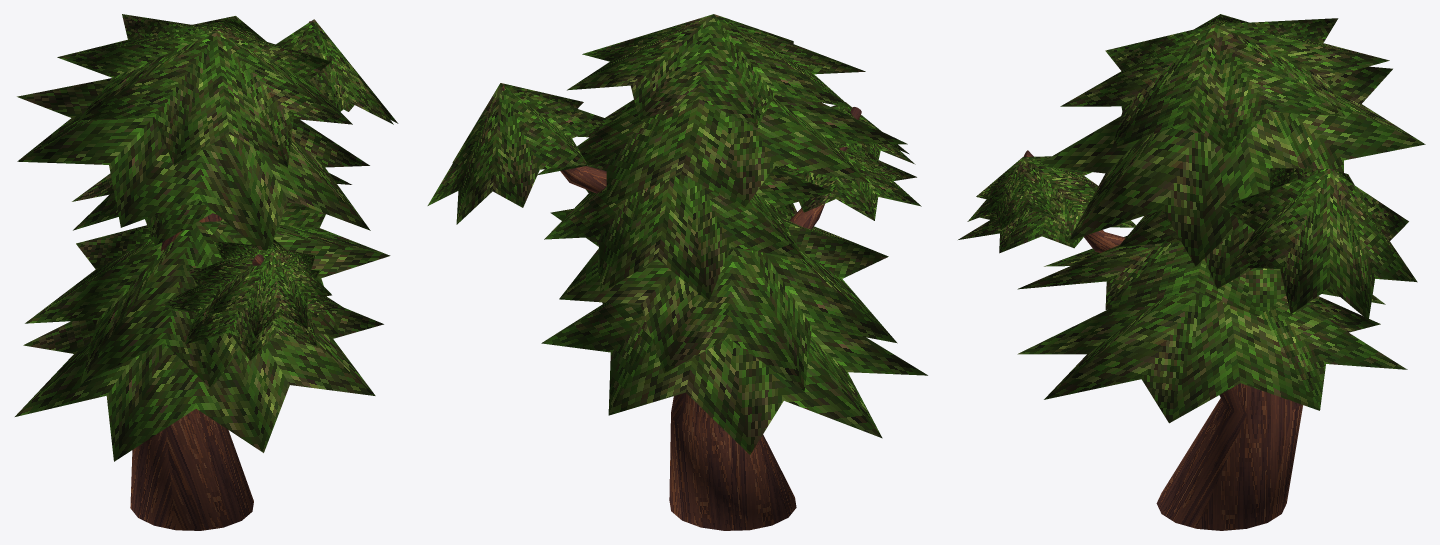
The model's file is leaf_tree_2.glb.
3 renders of one model, left to right at view 1: azimuth 30°, elevation 25°; view 2: azimuth 150°, elevation 25°; view 3: azimuth 270°, elevation 25°, orthographic. The views are drawn at different scales.
Parts seen in each view (by area): view 1: leaves, Cylinder; view 2: leaves, Cylinder; view 3: leaves, Cylinder.
Boxes of the visible parts, x1,y1,x2,y2 form: leaves: (15, 14, 398, 461); Cylinder: (130, 21, 313, 530); leaves: (427, 14, 927, 454); Cylinder: (500, 84, 861, 530); leaves: (958, 14, 1425, 423); Cylinder: (1023, 150, 1335, 530).
Size of the model in its own units: 7.43 by 8.31 by 7.2.
Materials: 2 (2 with a texture image).
